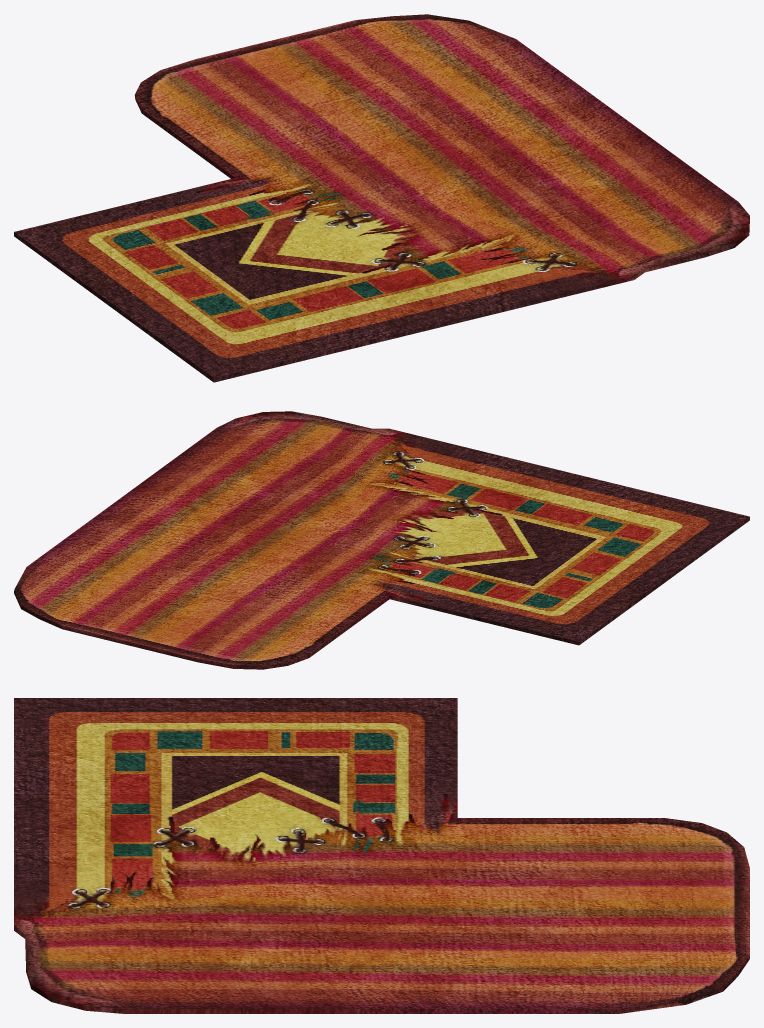
File: M_Home_Garden_Carpet30.fbx
3 views of the same model, one above another, from view 1: azimuth 30°, elevation 25°; view 2: azimuth 150°, elevation 25°; view 3: azimuth 270°, elevation 25° (orthographic). The views are drawn at different scales.
Visible parts, largest first — view 1: M_Home_Garden_Carpet30; view 2: M_Home_Garden_Carpet30; view 3: M_Home_Garden_Carpet30.
Part boxes in pixels (bbox=[...]): M_Home_Garden_Carpet30: bbox=[14, 14, 749, 382]; M_Home_Garden_Carpet30: bbox=[14, 411, 749, 669]; M_Home_Garden_Carpet30: bbox=[14, 698, 749, 1013].
Size of the model in its own units: 300 by 2.2 by 300.
